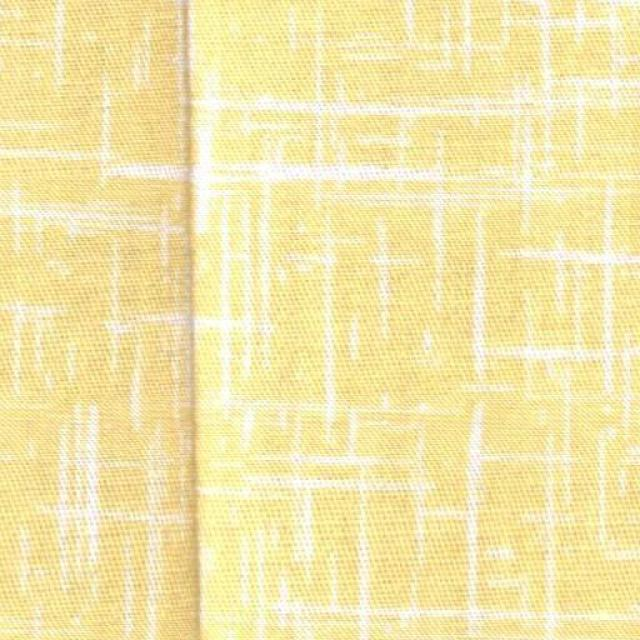stain: (172, 5, 205, 639)
